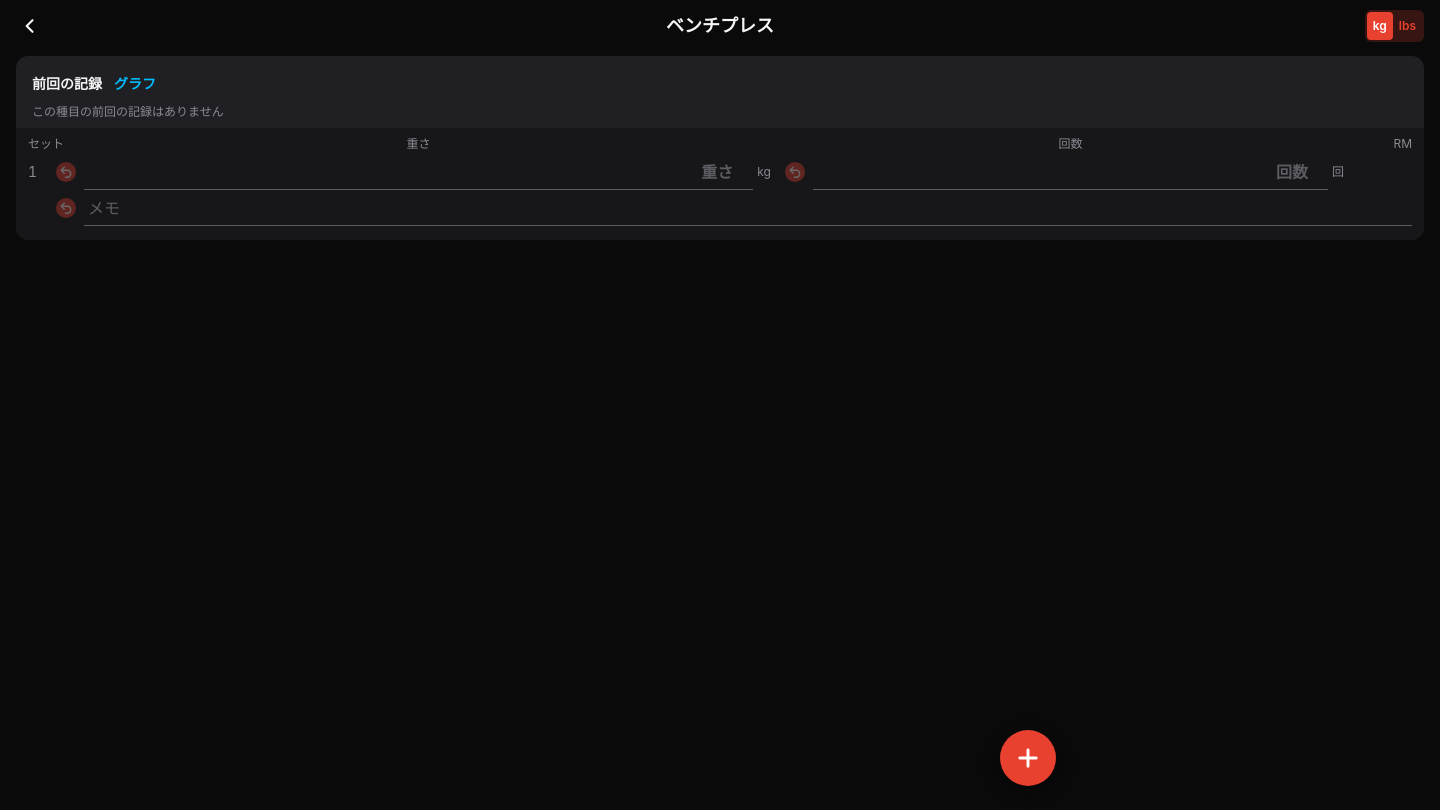
Test: LogPage list input › saves nothing for an exercise opened and left without typing
The image size is (1440, 810).
Check: the field named "1セット目の重さ" is shown, box top-left (84, 154), bottom-right (753, 190)
Click the button named "今日の記録に戻る" at (30, 26), box top-left (8, 4), bottom-right (52, 48)
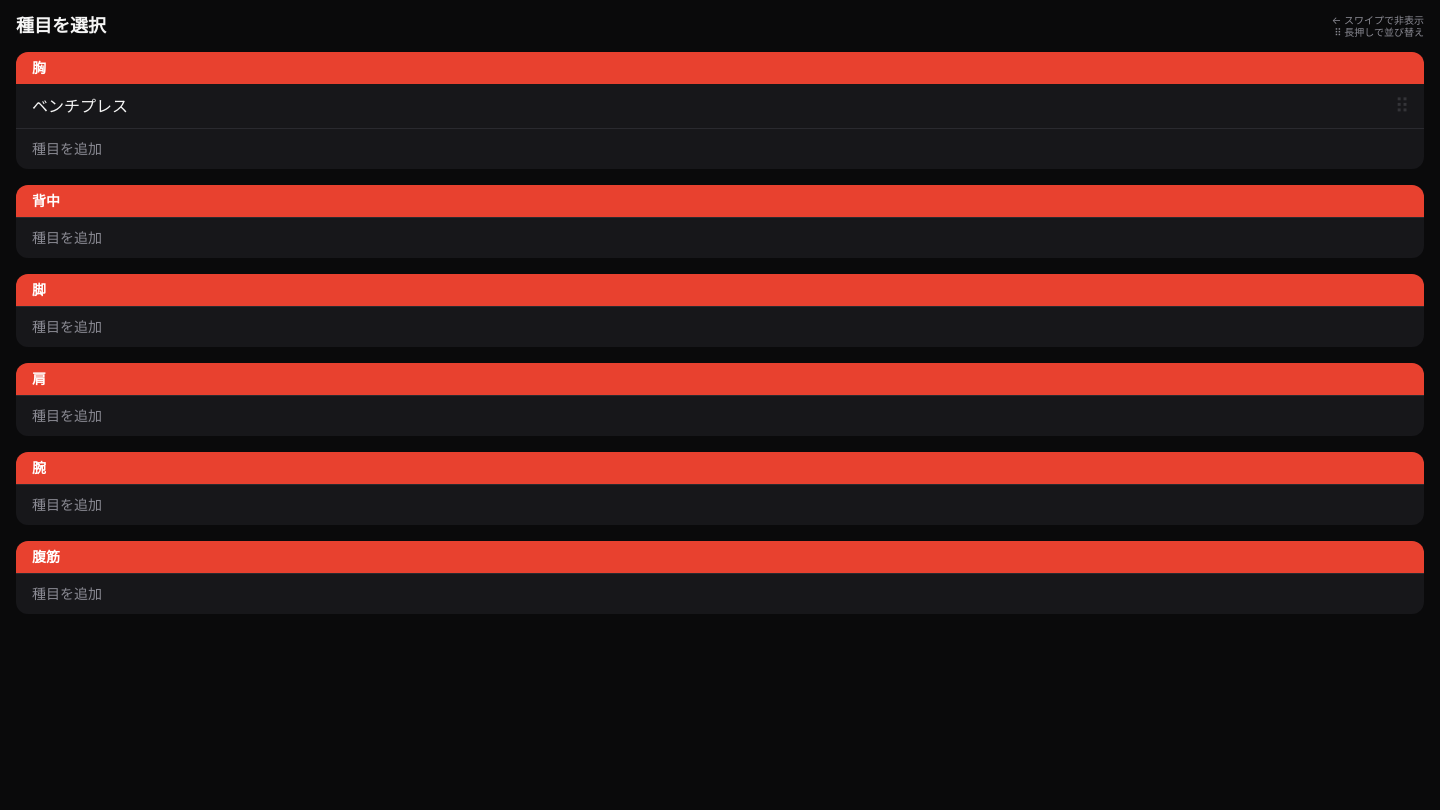
Check: the element named "胸の種目" is shown, box top-left (16, 52), bottom-right (1424, 169)
